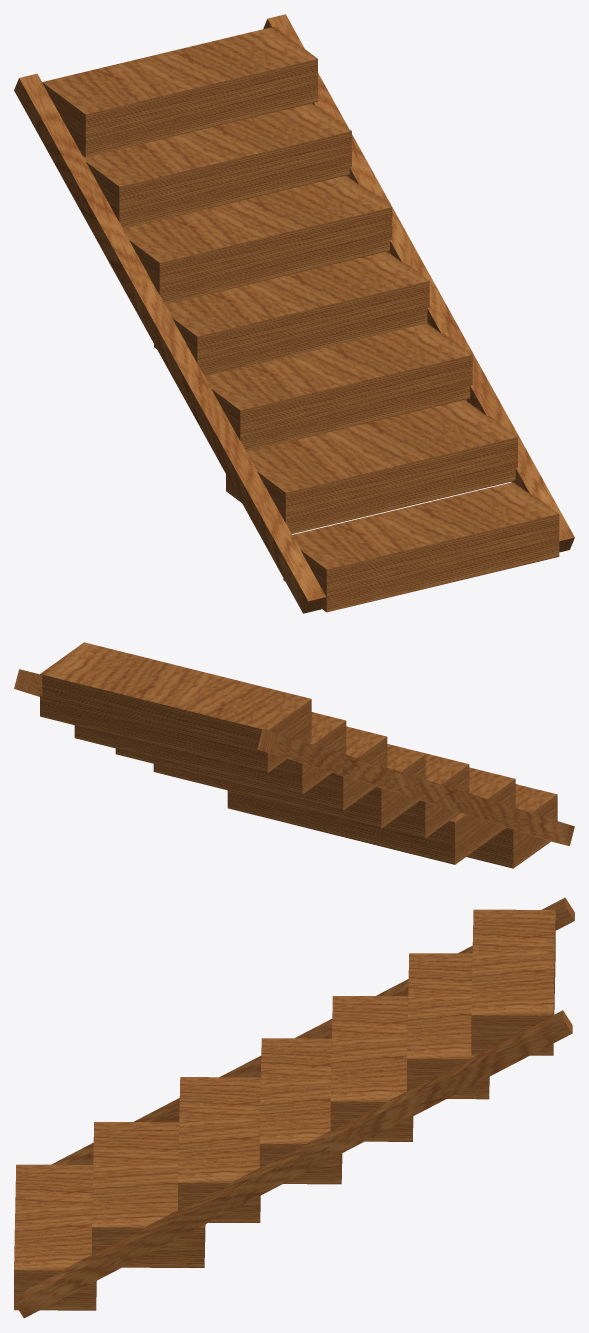
Rendered from Stairs.fbx.
The picture shows the model from 3 angles, top to bottom: view 1: azimuth 30°, elevation 25°; view 2: azimuth 150°, elevation 25°; view 3: azimuth 270°, elevation 25°; orthographic projection. The views are drawn at different scales.
Parts seen in each view (by area): view 1: Stairs (×9); view 2: Stairs (×9); view 3: Stairs (×9).
Boxes of the visible parts, box(x1,y1,x2,y2) form: Stairs (×9): box(14, 14, 574, 613); Stairs (×9): box(14, 642, 574, 868); Stairs (×9): box(14, 897, 574, 1318).
Size of the model in its own units: 160 by 183 by 308.
1 material, 1 textured.
